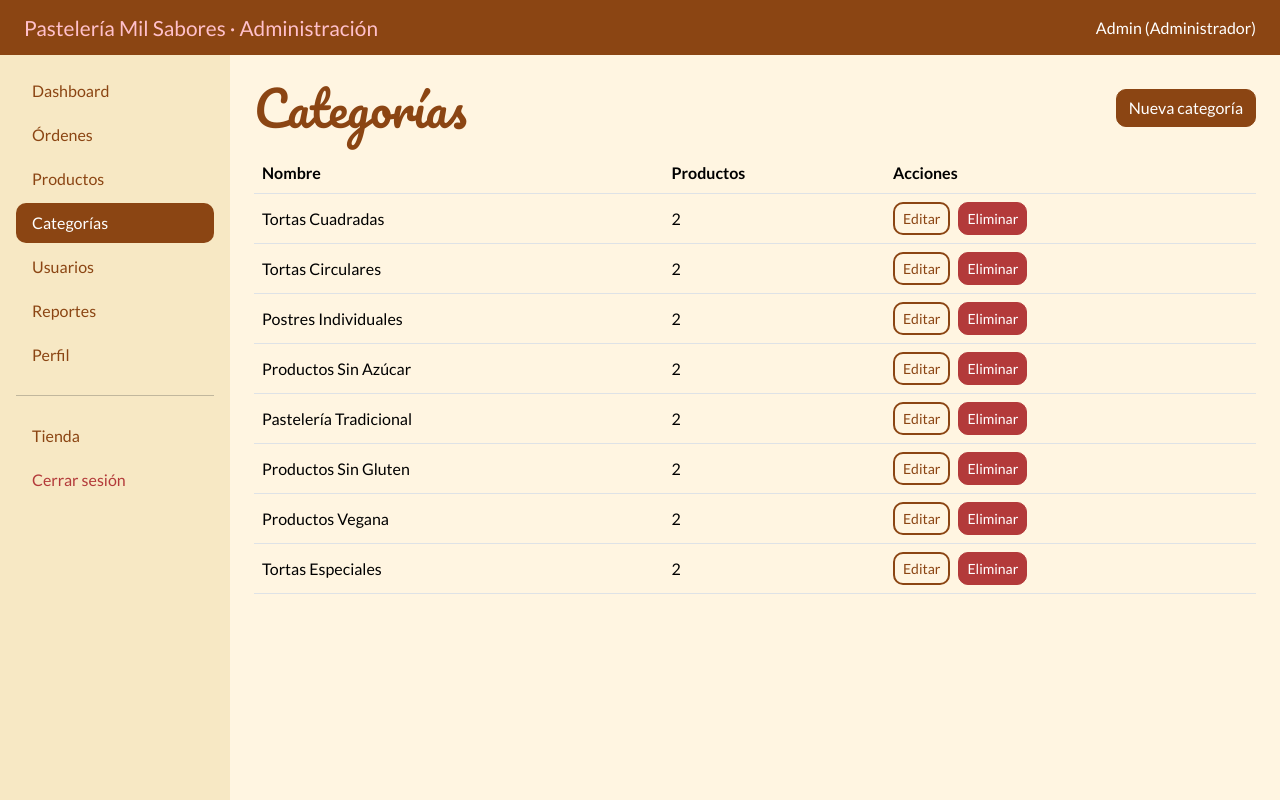
Test: Admin: categorías › no deja eliminar una categoría con productos
Click the button "Eliminar" in the row of "Tortas Cuadradas" at (993, 218), box [958, 202, 1027, 235]
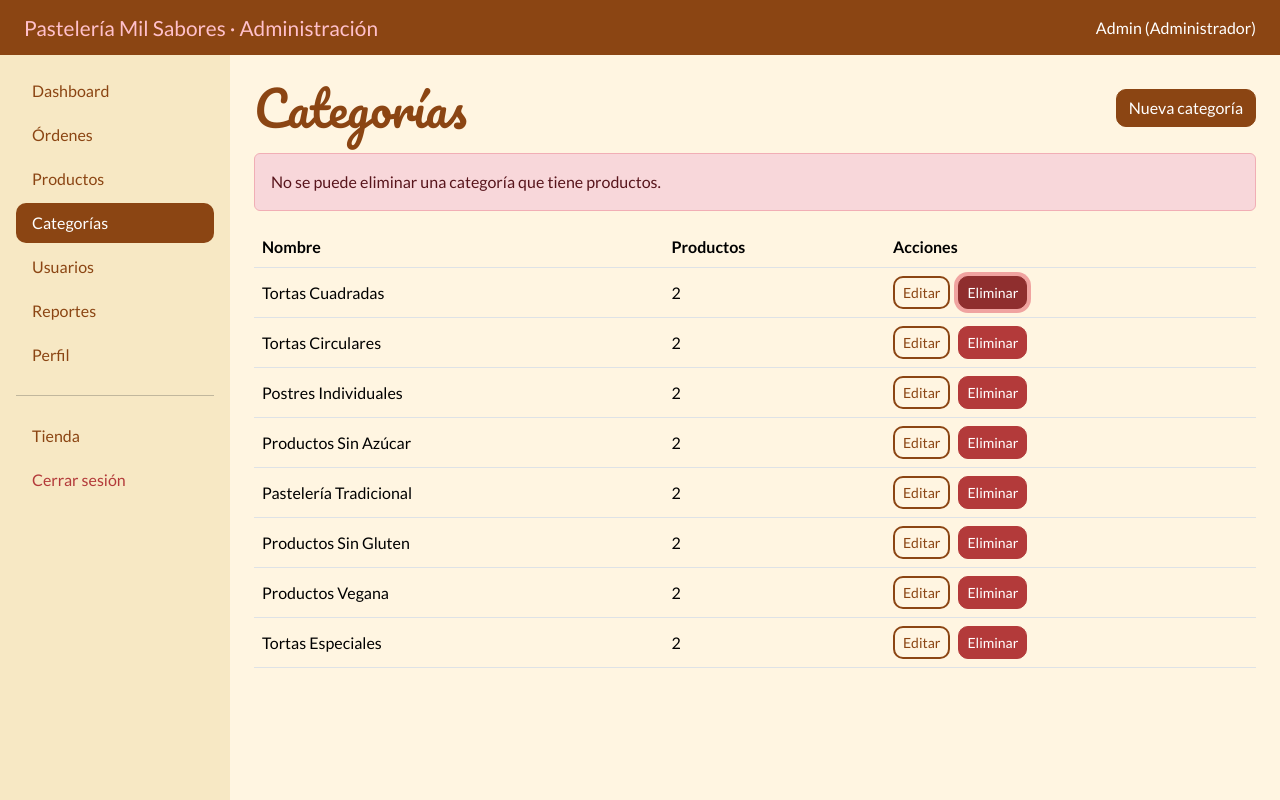
Now the message reads "No se puede eliminar una categoría que tiene productos.", box [271, 172, 661, 191]
